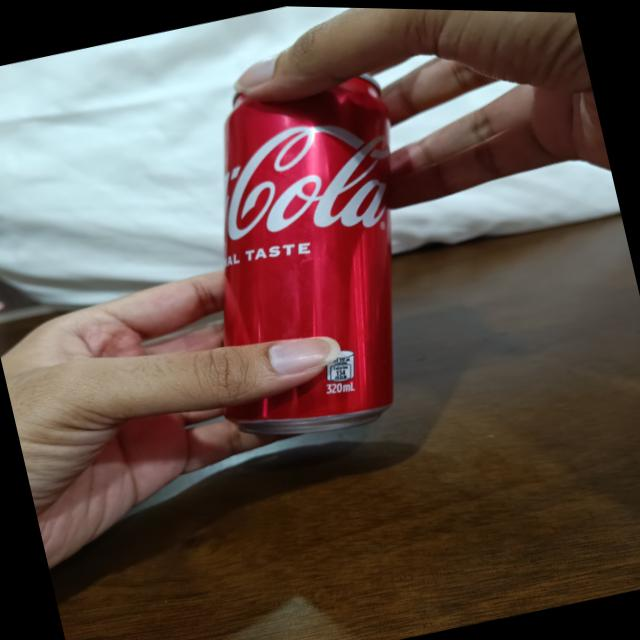coke: (156, 53, 456, 449)
